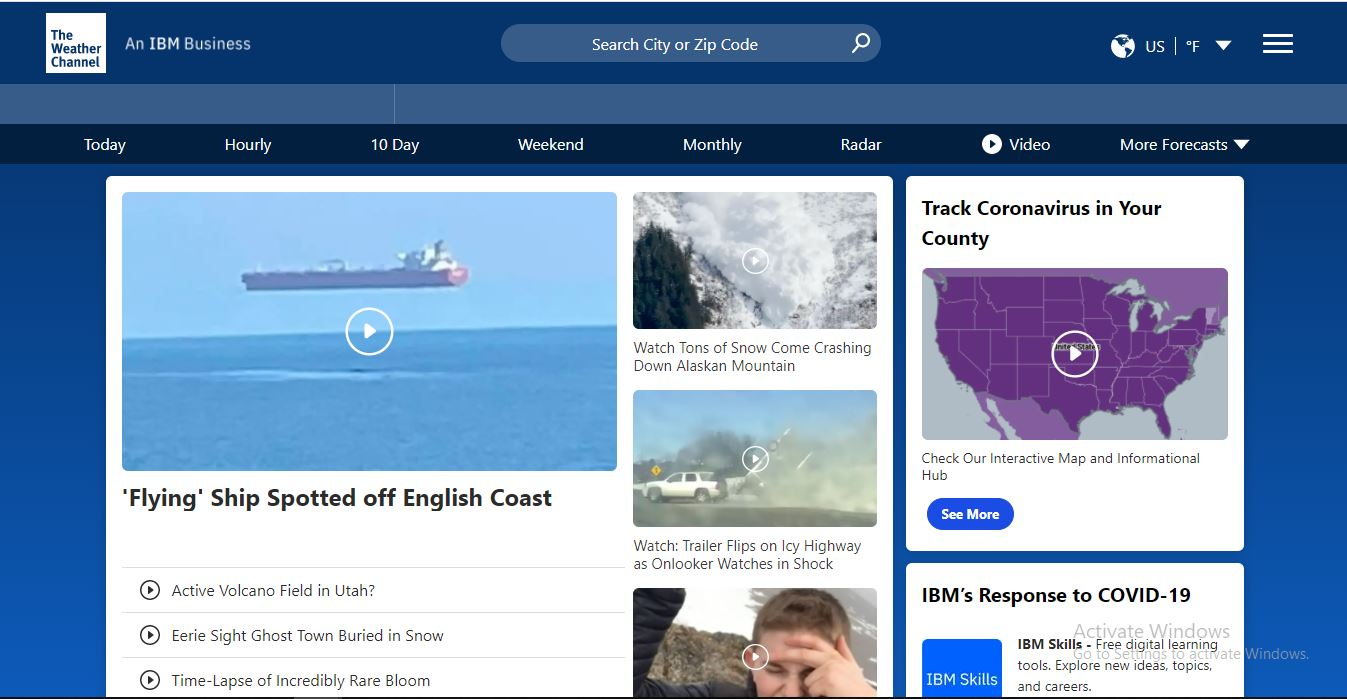Image: (124, 195, 617, 469), (639, 390, 878, 525), (634, 198, 876, 331), (631, 591, 875, 699), (46, 13, 265, 71)
Menu Bar: (69, 123, 1273, 164)
Nav Bar: (1086, 17, 1304, 73)
Side Bar: (906, 179, 1246, 548), (904, 561, 1244, 699)
Text Field: (496, 24, 884, 62)
